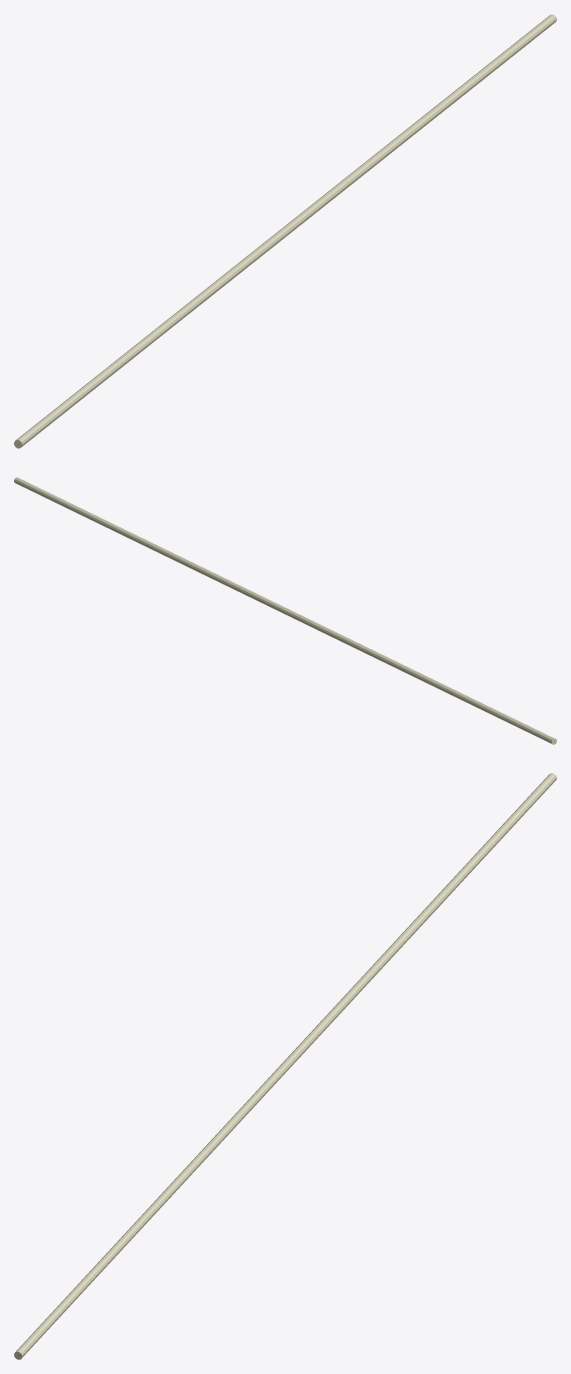
Rendered from tile_123.glb.
3 renders of one model, top to bottom at view 1: azimuth 90°, elevation 25°; view 2: azimuth 150°, elevation 25°; view 3: azimuth 270°, elevation 25°, orthographic. The views are drawn at different scales.
Size of the model in its own units: 32.04 by 2.52 by 14.6.
